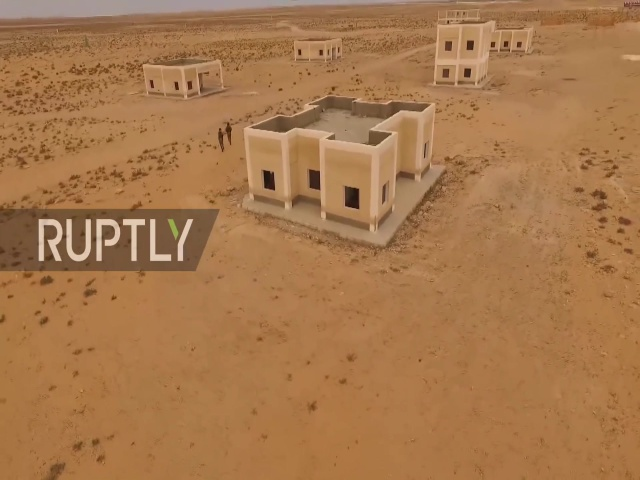person: (217, 124, 225, 154), (225, 121, 234, 146)
